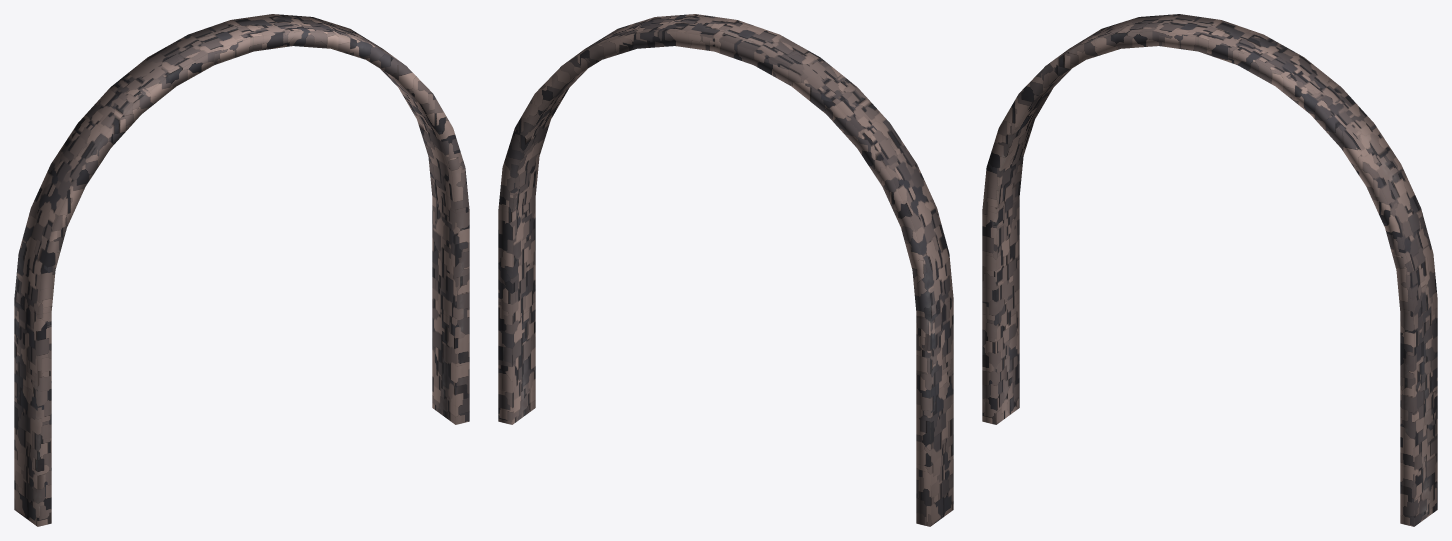
File: Arch.fbx
3 renders of one model, left to right at view 1: azimuth 30°, elevation 25°; view 2: azimuth 150°, elevation 25°; view 3: azimuth 330°, elevation 25°, orthographic.
Visible parts, largest first — view 1: Arch; view 2: Arch; view 3: Arch.
Part boxes in pixels (x1=…): Arch: x1=14, y1=14, x2=469, y2=526; Arch: x1=498, y1=14, x2=953, y2=526; Arch: x1=982, y1=14, x2=1437, y2=526.
Bounding box in the file's own units: 2138 × 2069 × 200.
1 material, 1 textured.
